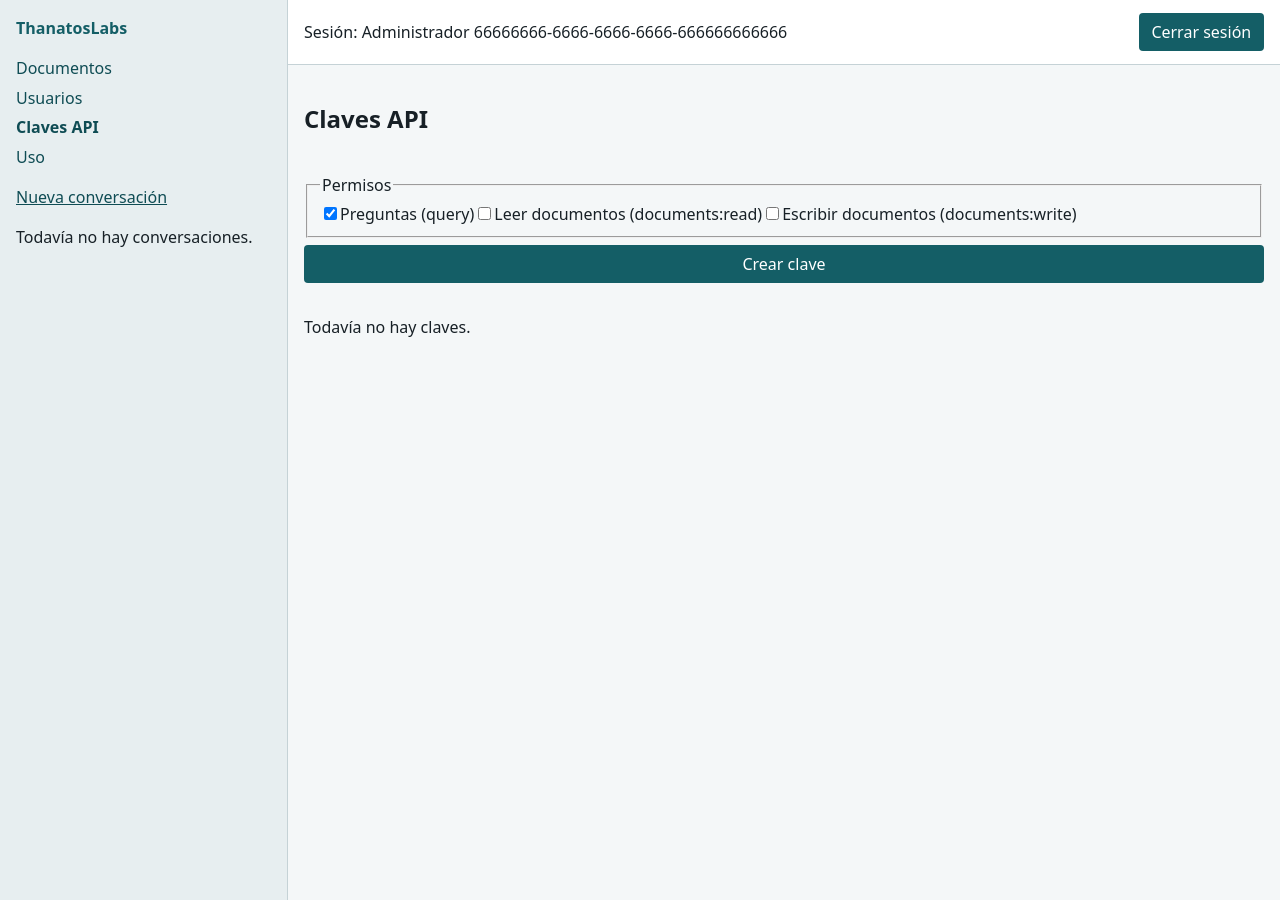
Test case: el secreto se muestra una vez y después solo queda el prefijo
Expected: the heading "Claves API" is shown, [304, 102, 428, 135]
Click the checkbox labelled "Leer documentos (documents:read)". click: [485, 214]
box: [478, 207, 491, 220]
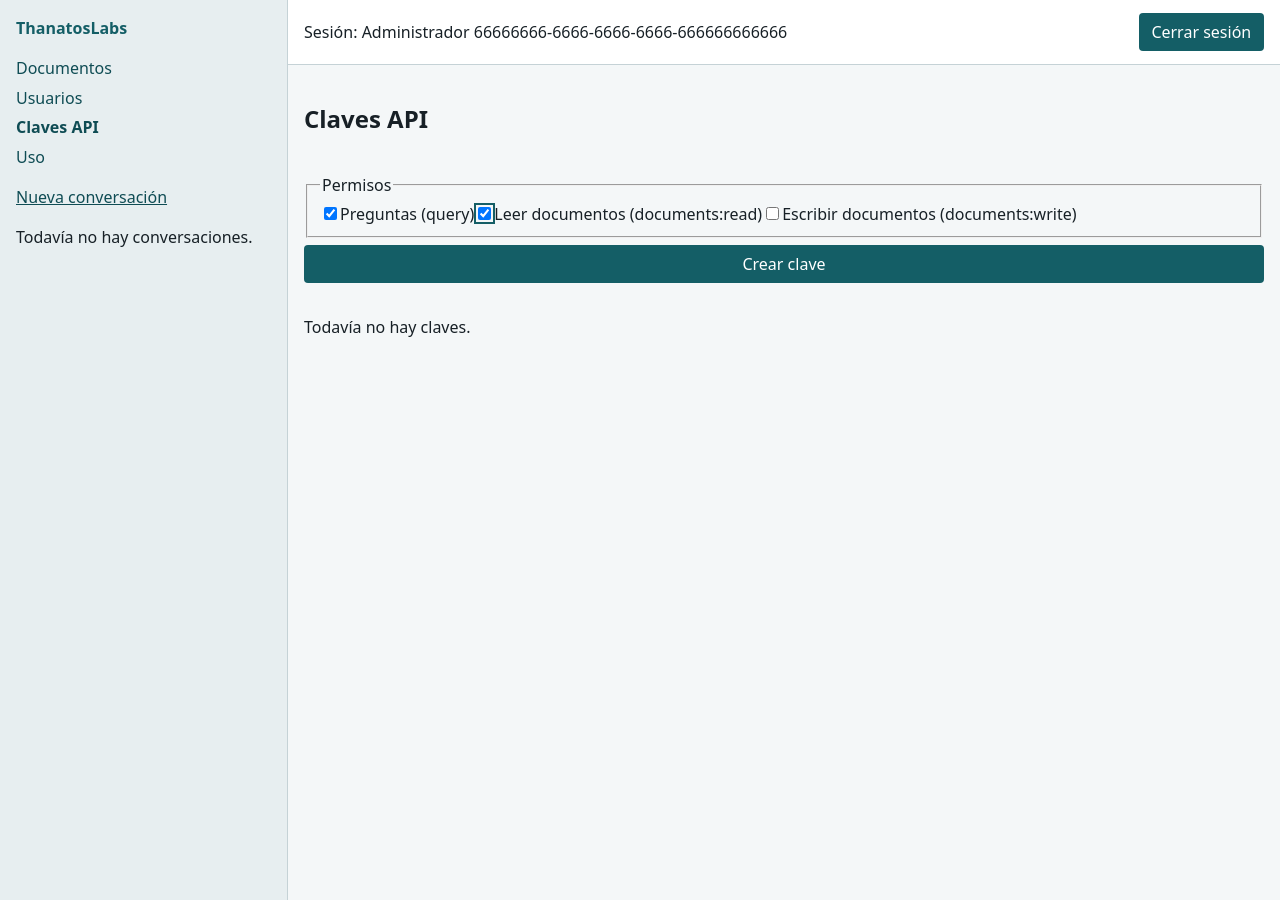
Click the button "Crear clave". click: [784, 264]
box: [304, 245, 1264, 283]
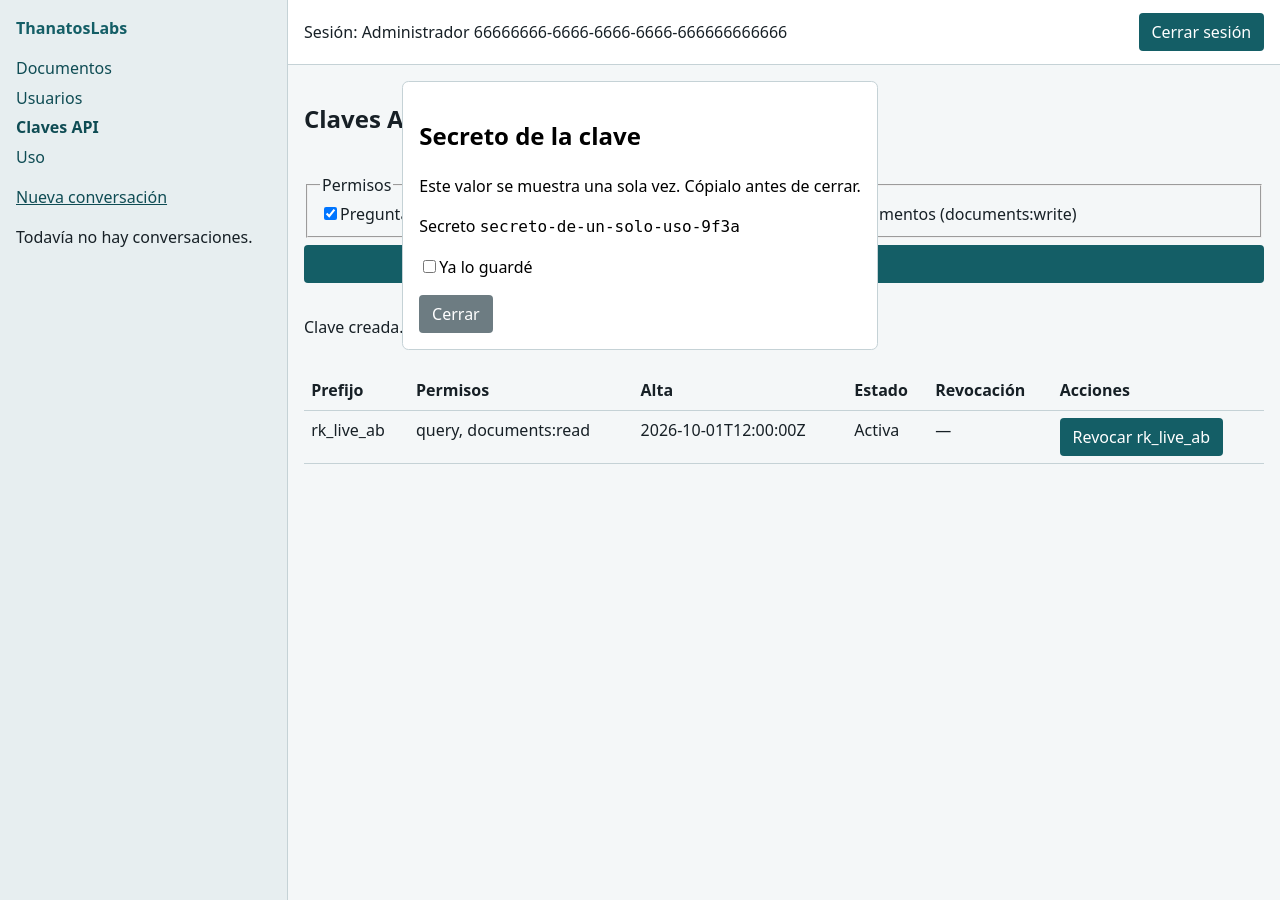
Expected: the text "secreto-de-un-solo-uso-9f3a" is shown, [480, 217, 740, 236]
Expected: the button "Cerrar" is disabled, [419, 295, 492, 333]
Click the checkbox labelled "Ya lo guardé". click: [430, 266]
box: [423, 260, 436, 273]
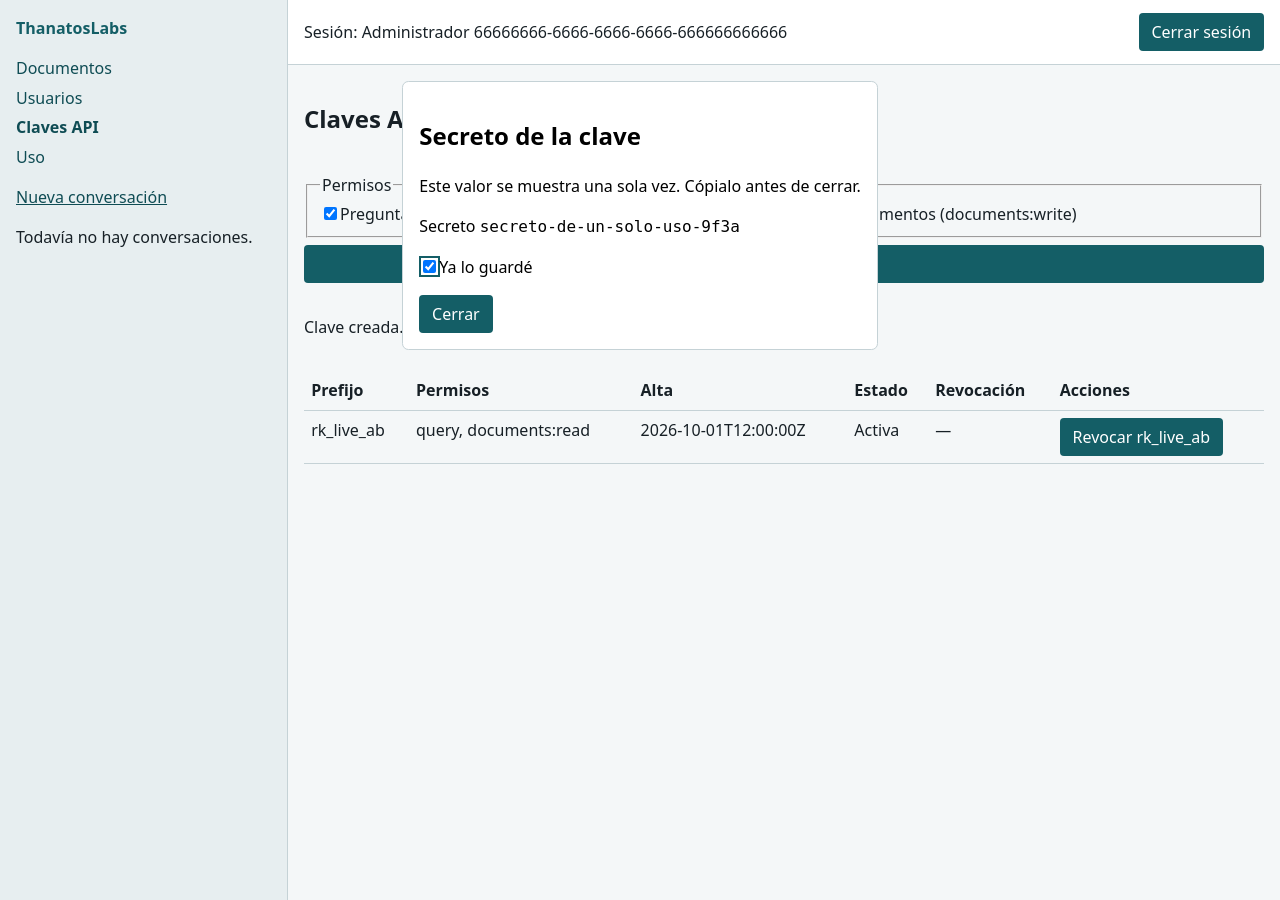
Click the button "Cerrar". click: [456, 314]
box: [419, 295, 492, 333]
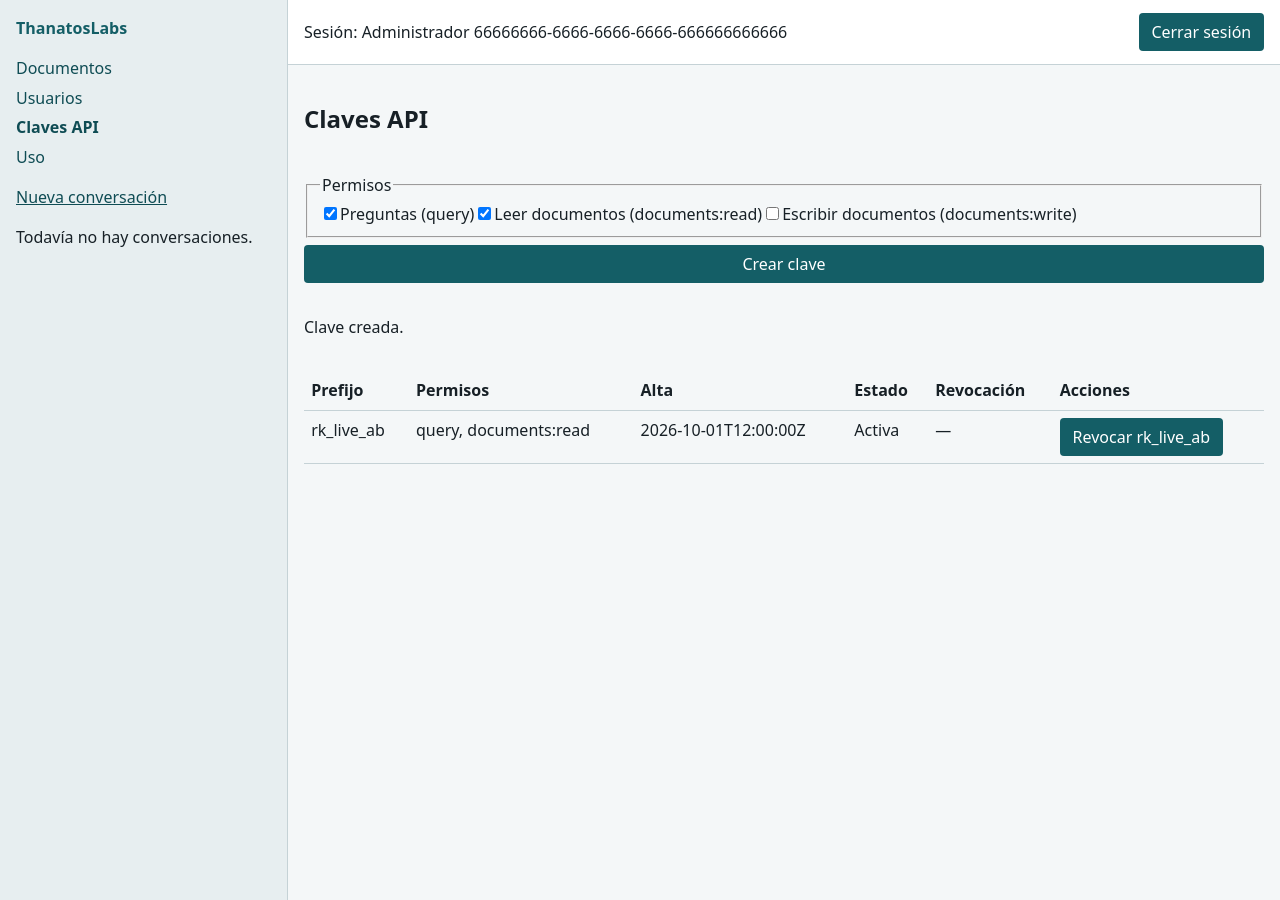
Expected: the text "rk_live_ab" is shown, [304, 410, 409, 464]
Expected: the text "query, documents:read" is shown, [409, 410, 633, 464]
Expected: the text "secreto-de-un-solo-uso-9f3a" is gone
Click the button "Revocar rk_live_ab". click: [1141, 437]
box: [1060, 418, 1223, 456]
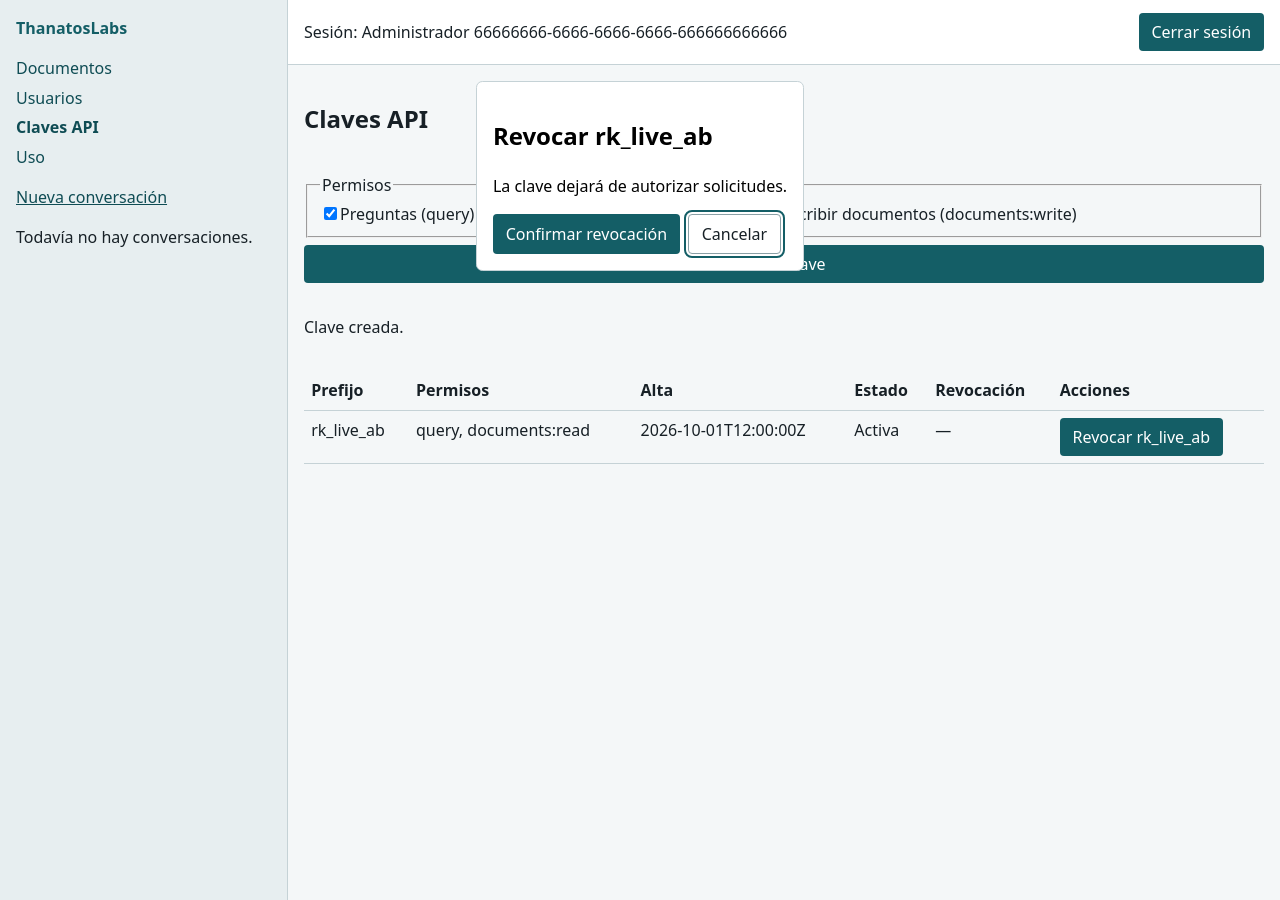
Expected: the text "La clave dejará de autorizar solicitudes." is shown, [493, 174, 787, 198]
Click the button "Confirmar revocación". click: [586, 234]
box: [493, 214, 680, 254]
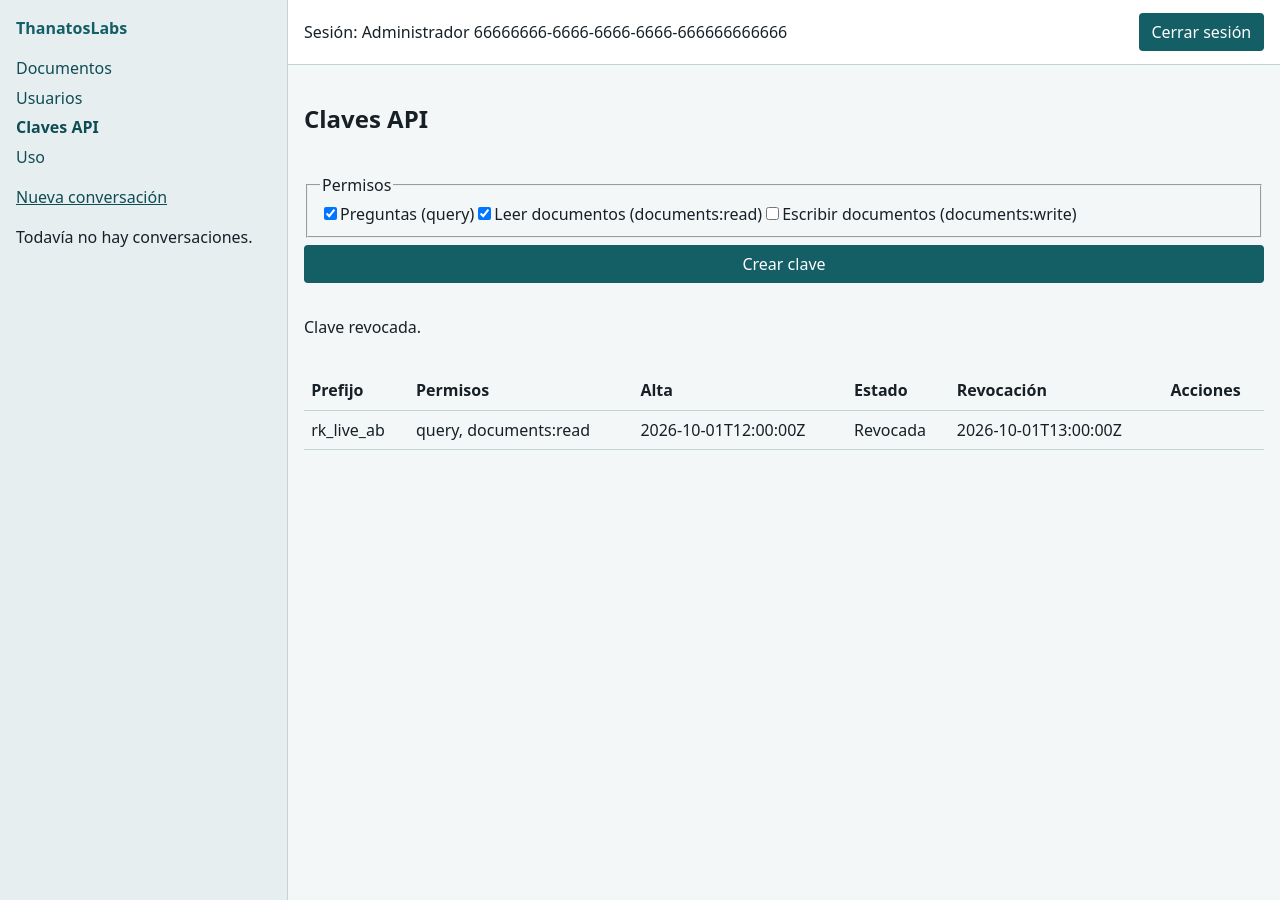
Expected: the text "secreto-de-un-solo-uso-9f3a" is not shown
Expected: the text "Revocada" is shown, [847, 410, 950, 449]
